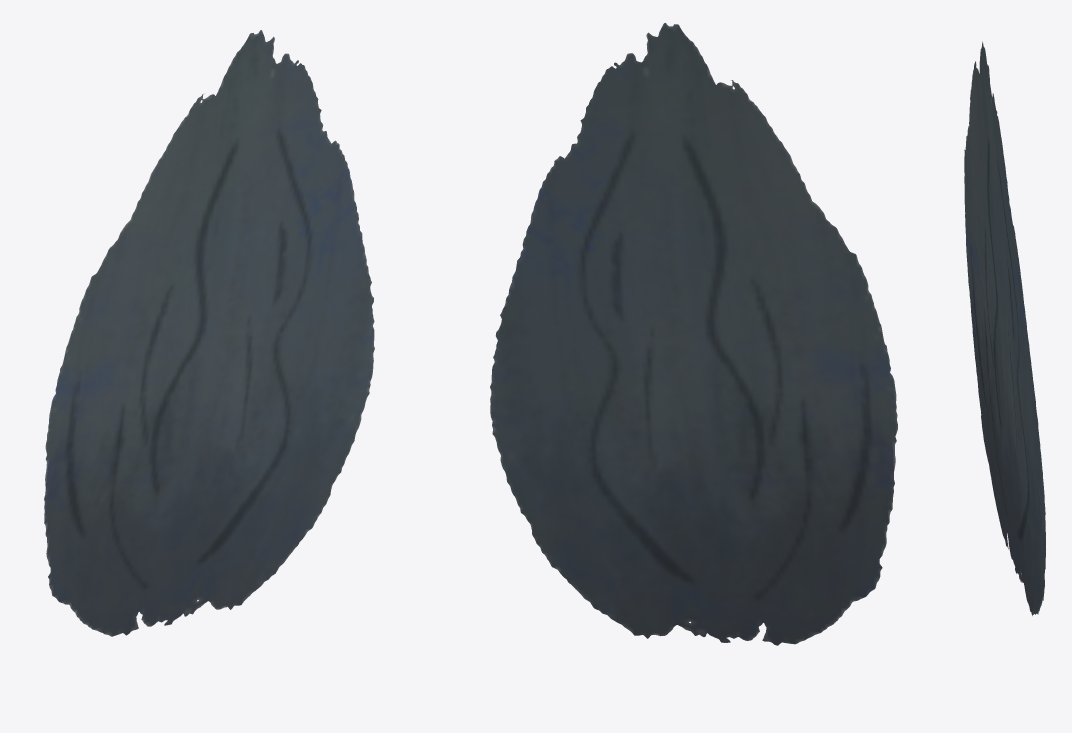
Rendered from tree3.fbx.
The picture shows the model from 3 angles, left to right: view 1: azimuth 30°, elevation 25°; view 2: azimuth 150°, elevation 25°; view 3: azimuth 270°, elevation 25°; orthographic projection. The views are drawn at different scales.
Parts seen in each view (by area): view 1: tree3; view 2: tree3; view 3: tree3.
Boxes of the visible parts, x1,y1,x2,y2 form: tree3: (44,30,374,636); tree3: (490,23,897,645); tree3: (964,41,1045,615).
Bounding box in the file's own units: 378 × 554 × 82.17.
